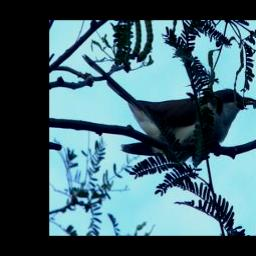Cuckoo: (77, 51, 256, 169)
